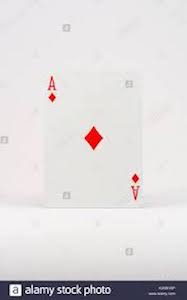AceOfDiamonds: (41, 67, 148, 212)
